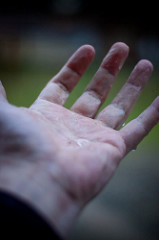palm: (23, 101, 131, 197)
